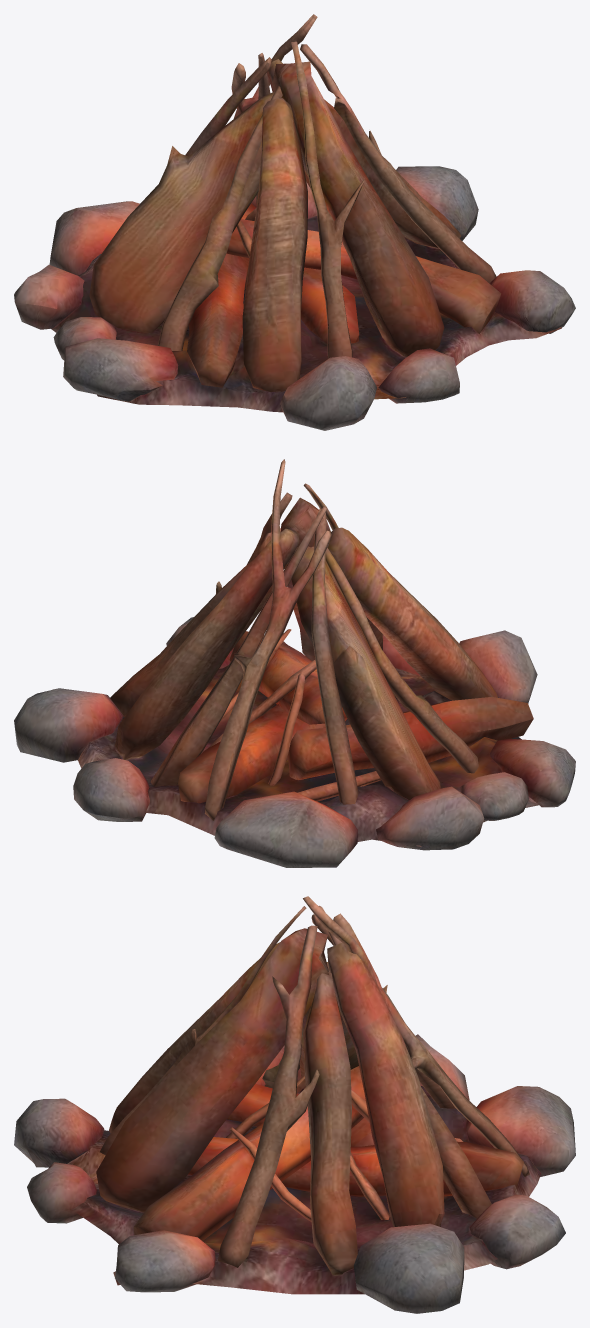
File: Campfire.obj
3 renders of one model, top to bottom at view 1: azimuth 30°, elevation 25°; view 2: azimuth 150°, elevation 25°; view 3: azimuth 270°, elevation 25°, orthographic. The views are drawn at different scales.
Visible parts, largest first — view 1: Campfire.001; view 2: Campfire.001; view 3: Campfire.001.
Part boxes in pixels (<box>): Campfire.001: <box>14,14,575,430</box>; Campfire.001: <box>14,459,575,867</box>; Campfire.001: <box>14,896,575,1313</box>.
Bounding box in the file's own units: 3.92 × 2.4 × 3.76.
Materials: 1 (1 with a texture image).
